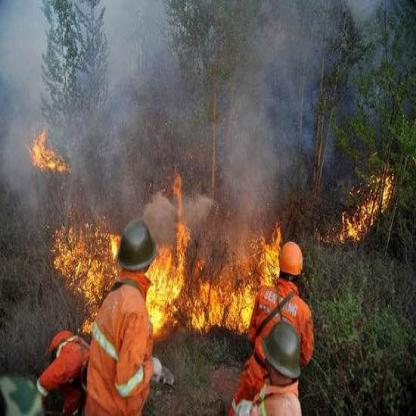fire: (144, 183, 284, 337), (54, 215, 120, 321), (324, 162, 393, 243), (23, 126, 65, 171)
other: (227, 238, 309, 411), (94, 218, 162, 414), (34, 314, 89, 412)
